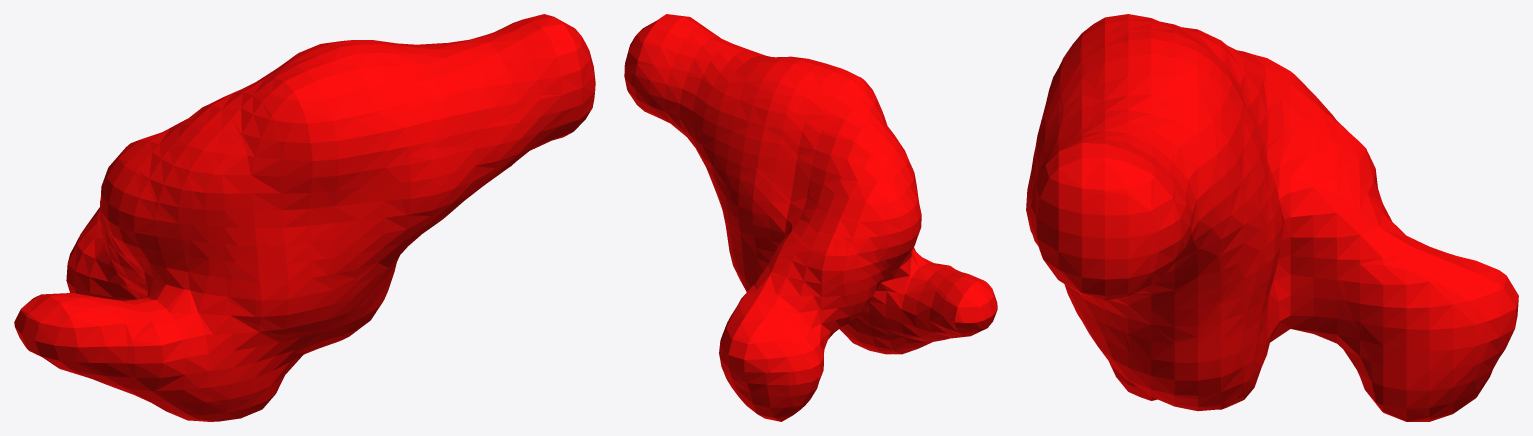
File: yaiA_coarse.dae
3 renders of one model, left to right at view 1: azimuth 30°, elevation 25°; view 2: azimuth 150°, elevation 25°; view 3: azimuth 270°, elevation 25°, orthographic. The views are drawn at different scales.
Parts seen in each view (by area): view 1: yaiA; view 2: yaiA; view 3: yaiA.
Boxes of the visible parts, x1,y1,x2,y2 form: yaiA: (14,14,595,421); yaiA: (624,14,997,421); yaiA: (1026,14,1518,421).
Bounding box in the file's own units: 55.68 × 36.16 × 37.76.
